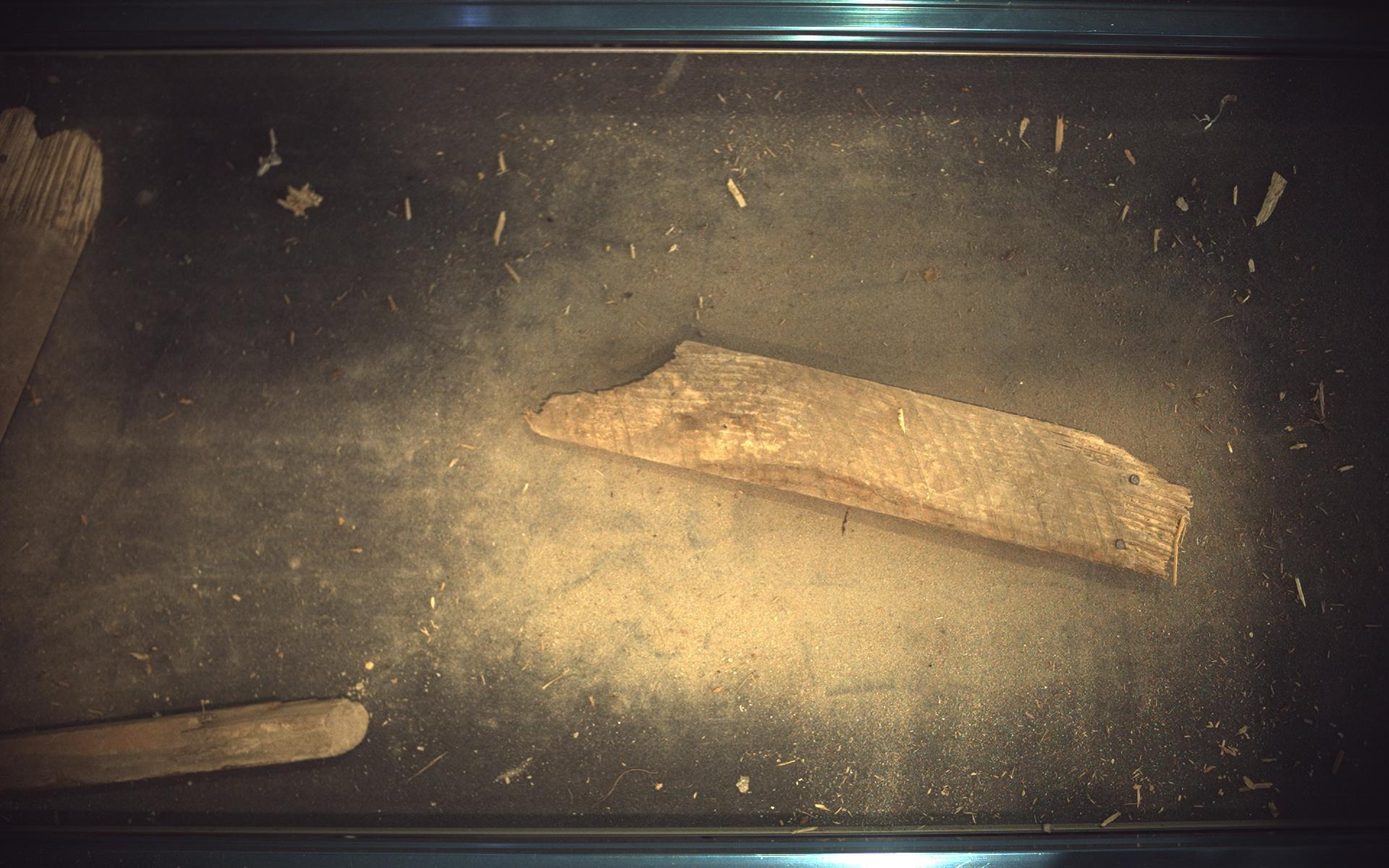wood: (526, 341, 1194, 584), (1, 106, 101, 439)
